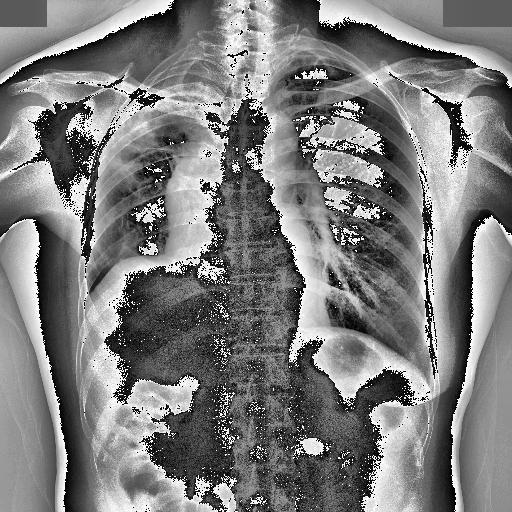0- Aortic enlargement: (238, 111, 298, 164)
1- Atelectasis: (109, 60, 205, 136)
11- Pleural thickening: (93, 68, 232, 167), (108, 63, 233, 142), (291, 43, 342, 60), (299, 48, 339, 62)
12- Pneumothorax: (108, 142, 178, 160)
13- Pulmonary fibrosis: (105, 104, 204, 164), (128, 110, 202, 152), (108, 142, 178, 160), (309, 55, 321, 83)
4- Consolidation: (157, 82, 210, 118)
8- Nodule-Mass: (168, 141, 234, 254)
9- Other lesion: (76, 258, 228, 352), (168, 141, 234, 254)
